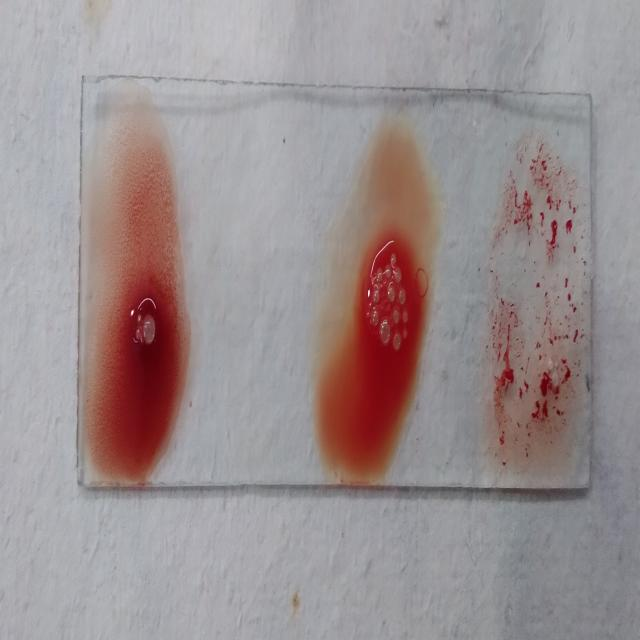A: (93, 120, 182, 476)
D: (482, 141, 582, 485)
